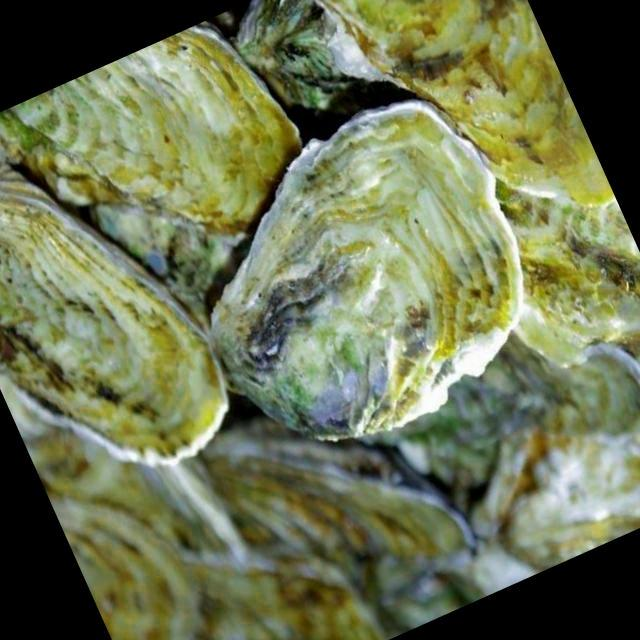Oyster-Closed: (205, 100, 527, 438), (0, 154, 230, 464), (1, 378, 248, 640), (0, 23, 302, 236), (314, 0, 614, 206), (199, 442, 476, 604), (497, 175, 640, 364), (45, 485, 205, 640), (182, 558, 384, 640)
